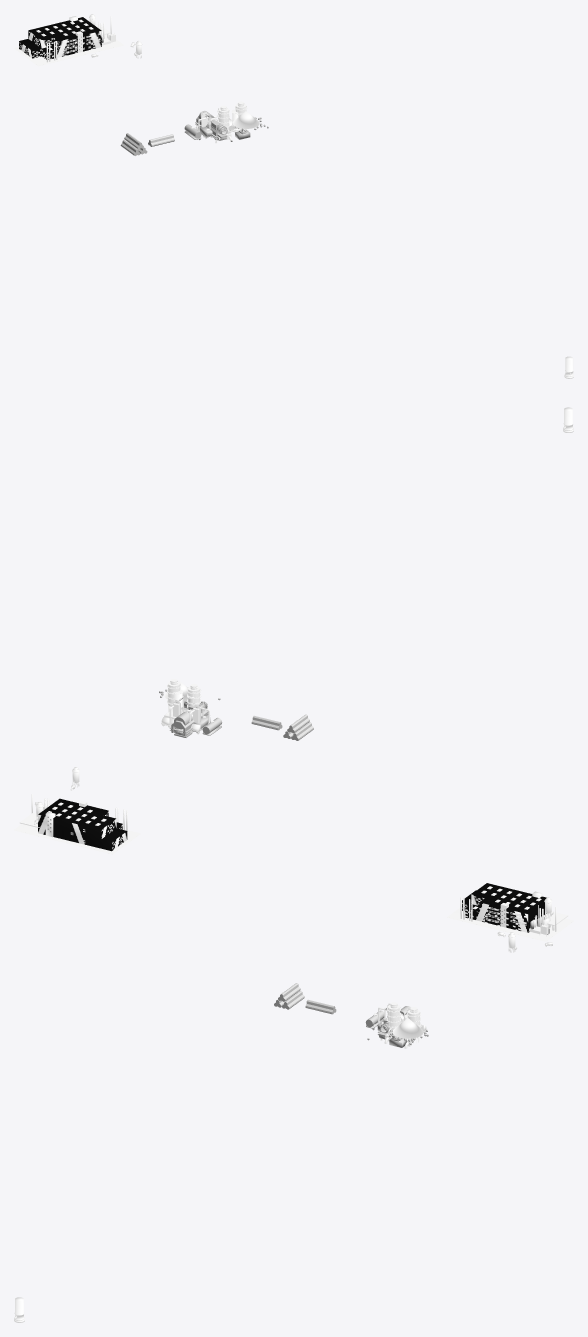
The model's file is Ustanovka_10_04.glb.
The picture shows the model from 3 angles, top to bottom: view 1: azimuth 30°, elevation 25°; view 2: azimuth 150°, elevation 25°; view 3: azimuth 330°, elevation 25°; orthographic projection. The views are drawn at different scales.
Parts seen in each view (by area): view 1: Cube_001.001, Cube.047; view 2: Cube_001.001, Cube.047; view 3: Cube_001.001, Cube.047.
Part boxes in pixels (<box>): Cube_001.001: <box>19,17,101,59</box>; Cube.047: <box>14,34,123,66</box>; Cube_001.001: <box>38,798,127,851</box>; Cube.047: <box>14,824,140,854</box>; Cube_001.001: <box>462,883,546,932</box>; Cube.047: <box>447,908,573,941</box>.
Size of what is drawn, in the model's own units: 38.12 by 9.08 by 241.
52 materials, 1 textured.
